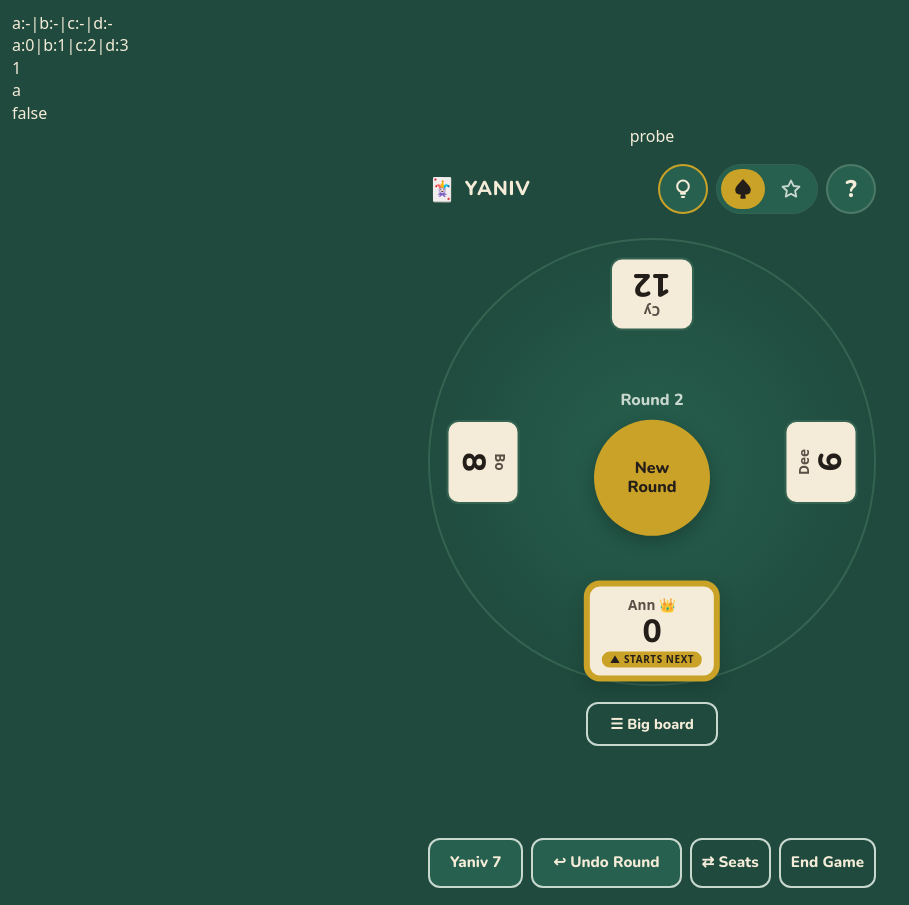
Test case: the minus button on the Rearrange Seats row › is a real button with a full accessible name including the player
Click the button with aria-label "Rearrange seats": (730, 863) [690, 838, 771, 888]
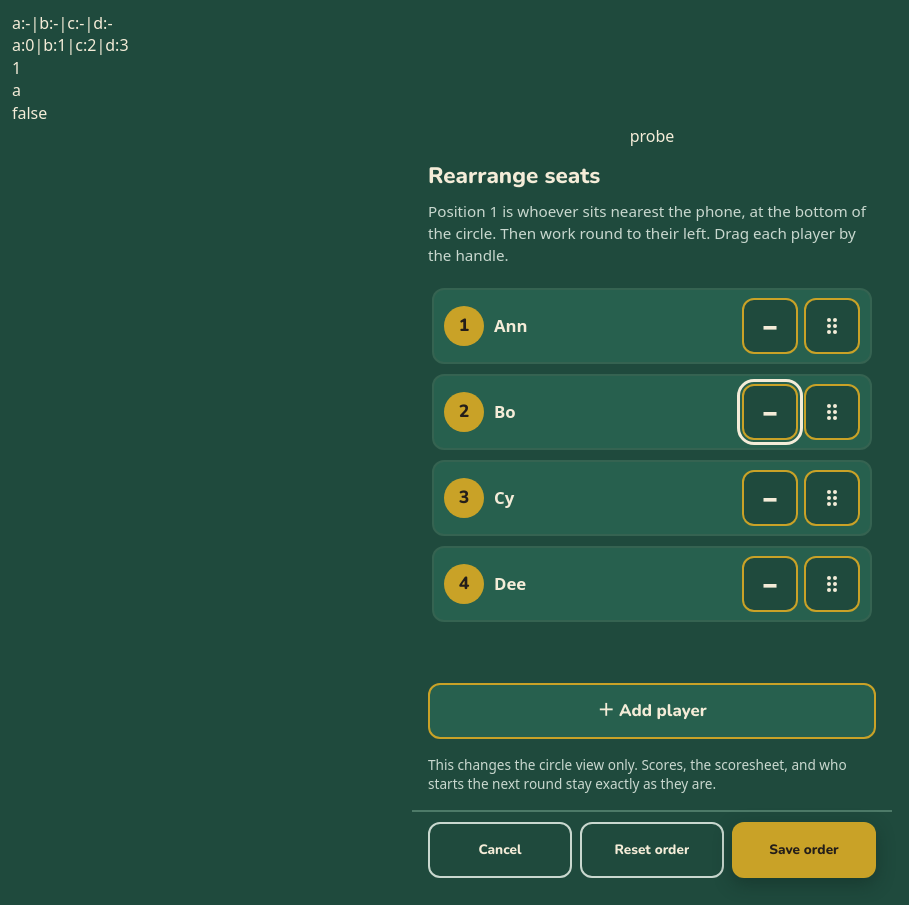
Now the button named "Remove Bo from the game" is enabled, box [742, 384, 798, 440]
